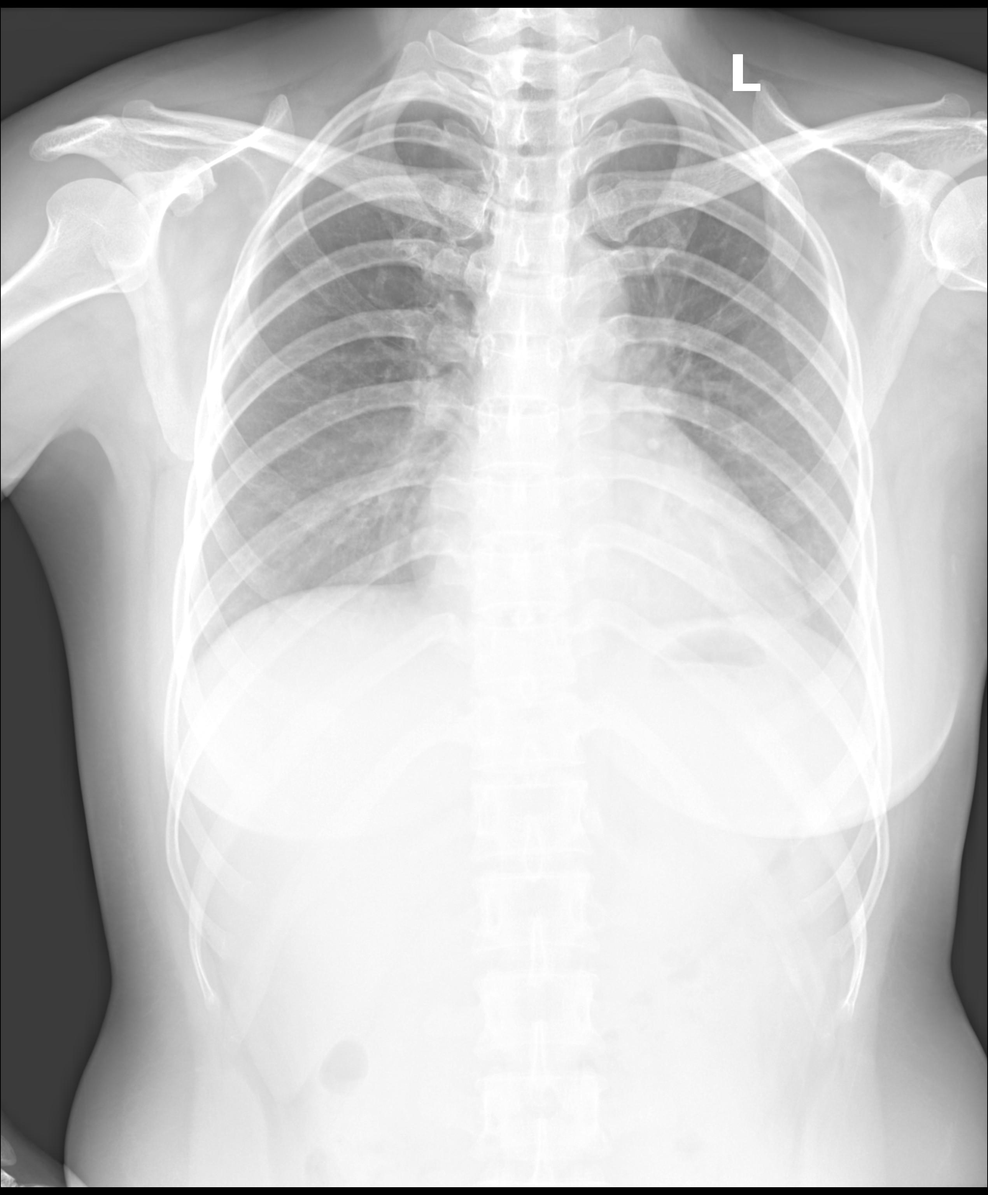Cardiomegaly: (406, 486, 805, 640)
